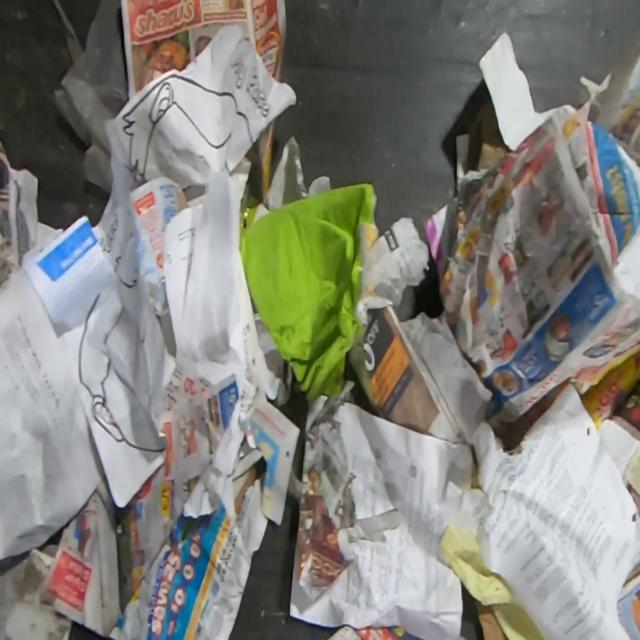cardboard: (244, 181, 381, 402), (238, 182, 272, 267), (474, 599, 507, 640)
soft_plastic: (50, 0, 130, 199)
